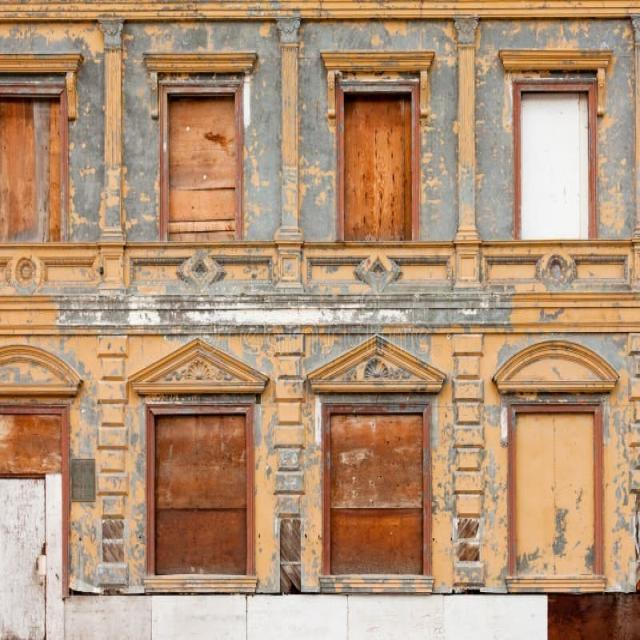peeling: (298, 20, 633, 237), (52, 281, 636, 365), (119, 14, 298, 245), (2, 23, 106, 241)
